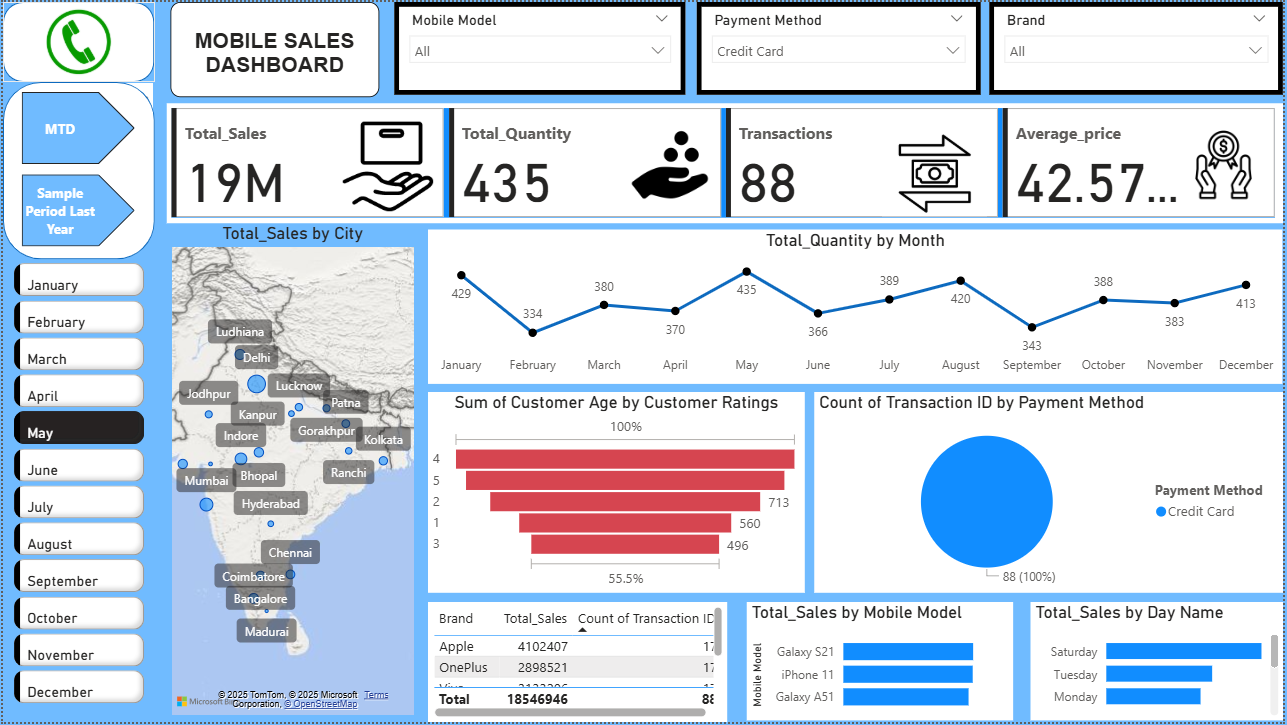

The dashboard page shown, as its layout file describes it:
{"tool":"powerbi","page":{"name":"Mobile Sales","canvas":[1280,720],"ordinal":0},"visuals":[{"type":"shape","box":[0,0,151.2,80],"z":0},{"type":"image","box":[0,0,151.2,80],"z":1000},{"type":"shape","box":[0,79.5,151.6,177.3],"z":2000},{"type":"cardVisual","fields":{"Data":["Mobile Sales Data.Total_Sales","Mobile Sales Data.Total_Quantity","Mobile Sales Data.Transactions","Mobile Sales Data.Average_price"]},"box":[163.9,101.5,1116.4,119.8],"z":3000},{"type":"advancedSlicerVisual","fields":{"Values":["Custom_Calender.Date.Variation.Date Hierarchy.Month"]},"box":[6.2,256.2,140,450],"z":4000},{"type":"slicer","fields":{"Values":["Mobile Sales Data.Mobile Model"]},"box":[391.2,0,291.2,92.5],"z":5000},{"type":"slicer","fields":{"Values":["Mobile Sales Data.Payment Method"]},"box":[693.8,0,283.8,92.5],"z":6000},{"type":"textbox","box":[166.9,0,209,95],"z":7000},{"type":"slicer","fields":{"Values":["Mobile Sales Data.Brand"]},"box":[986.2,0,293.8,92.5],"z":8000},{"type":"map","fields":{"Category":["Mobile Sales Data.City"],"Size":["Mobile Sales Data.Total_Sales"]},"box":[163.9,221.3,251.9,497.7],"z":9000},{"type":"lineChart","fields":{"Category":["Custom_Calender.Date.Variation.Date Hierarchy.Month"],"Y":["Mobile Sales Data.Total_Quantity"]},"box":[425.5,227.4,854.8,154.1],"z":10000},{"type":"funnel","fields":{"Y":["Sum(Mobile Sales Data.Customer Age)"],"Category":["Mobile Sales Data.Customer Ratings"]},"box":[425.5,390.1,376.6,200.5],"z":11000},{"type":"pieChart","fields":{"Y":["CountNonNull(Mobile Sales Data.Transaction ID)"],"Category":["Mobile Sales Data.Payment Method"]},"box":[810.7,390.1,469.6,200.5],"z":12000},{"type":"clusteredBarChart","fields":{"Y":["Mobile Sales Data.Total_Sales"],"Category":["Mobile Sales Data.Mobile Model"]},"box":[743.5,600.4,266.6,118.6],"z":13000},{"type":"clusteredBarChart","fields":{"Category":["Custom_Calender.Day Name"],"Y":["Mobile Sales Data.Total_Sales"]},"box":[1027.2,600.4,253.1,118.6],"z":14000},{"type":"tableEx","fields":{"Values":["Mobile Sales Data.Brand","Mobile Sales Data.Total_Sales","CountNonNull(Mobile Sales Data.Transaction ID)"]},"box":[425.5,600.4,299.6,119.8],"z":15000},{"type":"pageNavigator","box":[18.3,90.5,113.7,154.1],"z":16000}]}

Visuals, with their boxes in screenshot pixels (x1, y1, x2, y2), scaled from the page's 1280x720 canvas onto the 1287x725 screenshot:
shape: select_region(0, 0, 152, 81)
image: select_region(0, 0, 152, 81)
shape: select_region(0, 80, 152, 259)
cardVisual - Mobile Sales Data.Total_Sales x Mobile Sales Data.Total_Quantity: select_region(165, 102, 1286, 223)
advancedSlicerVisual - Custom_Calender.Date.Variation.Date Hierarchy.Month: select_region(6, 258, 147, 711)
slicer - Mobile Sales Data.Mobile Model: select_region(393, 0, 686, 93)
slicer - Mobile Sales Data.Payment Method: select_region(698, 0, 983, 93)
textbox: select_region(168, 0, 378, 96)
slicer - Mobile Sales Data.Brand: select_region(992, 0, 1286, 93)
map - Mobile Sales Data.City x Mobile Sales Data.Total_Sales: select_region(165, 223, 418, 724)
lineChart - Custom_Calender.Date.Variation.Date Hierarchy.Month x Mobile Sales Data.Total_Quantity: select_region(428, 229, 1286, 384)
funnel - Sum(Mobile Sales Data.Customer Age) x Mobile Sales Data.Customer Ratings: select_region(428, 393, 806, 595)
pieChart - CountNonNull(Mobile Sales Data.Transaction ID) x Mobile Sales Data.Payment Method: select_region(815, 393, 1286, 595)
clusteredBarChart - Mobile Sales Data.Total_Sales x Mobile Sales Data.Mobile Model: select_region(748, 605, 1016, 724)
clusteredBarChart - Custom_Calender.Day Name x Mobile Sales Data.Total_Sales: select_region(1033, 605, 1286, 724)
tableEx - Mobile Sales Data.Brand x Mobile Sales Data.Total_Sales: select_region(428, 605, 729, 724)
pageNavigator: select_region(18, 91, 133, 246)
